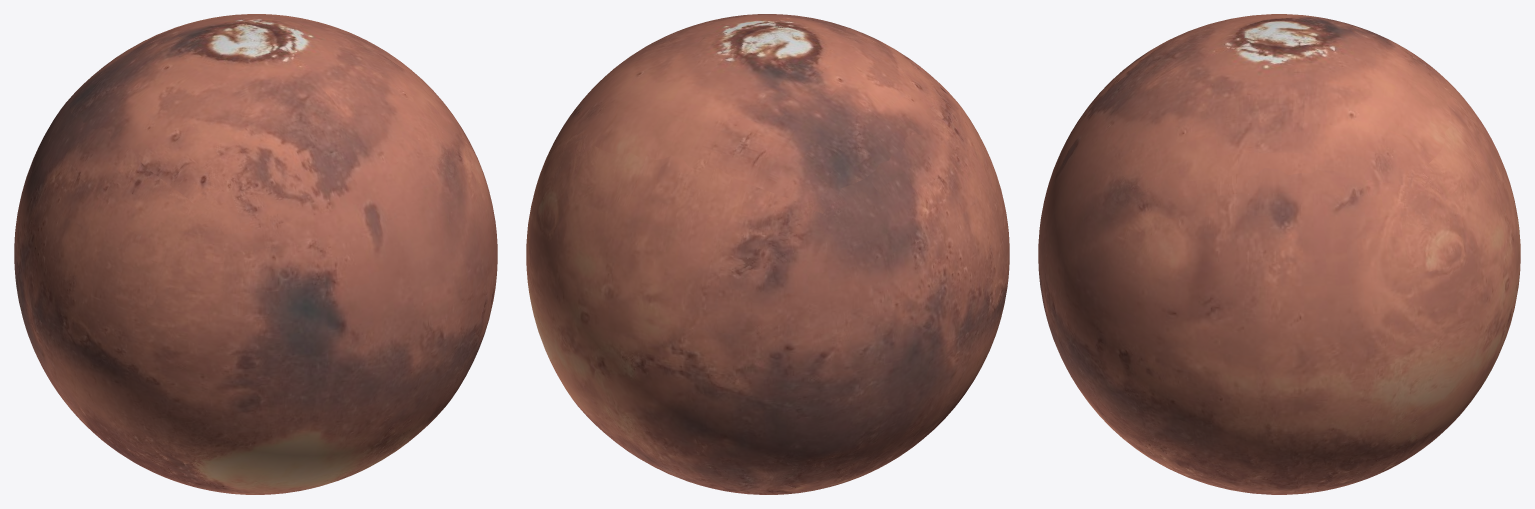
File: mars.glb
The picture shows the model from 3 angles, left to right: view 1: azimuth 30°, elevation 25°; view 2: azimuth 150°, elevation 25°; view 3: azimuth 270°, elevation 25°; orthographic projection.
Visible parts, largest first — view 1: Mars_surface_Cube.008; view 2: Mars_surface_Cube.008; view 3: Mars_surface_Cube.008.
Part boxes in pixels (x1,y1,x2,y2): Mars_surface_Cube.008: [14, 14, 497, 494]; Mars_surface_Cube.008: [526, 14, 1009, 494]; Mars_surface_Cube.008: [1038, 14, 1520, 494].
Bounding box in the file's own units: 1.99 × 1.98 × 1.99.
1 material, 1 textured.
